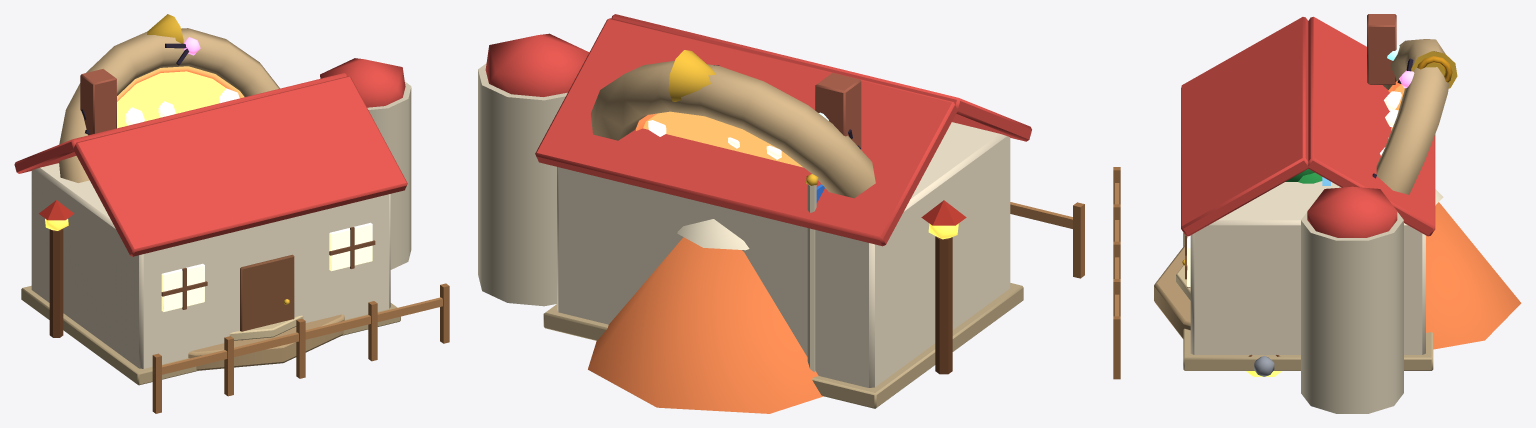
File: rescue.glb
3 views of the same model, side by side, from view 1: azimuth 30°, elevation 25°; view 2: azimuth 150°, elevation 25°; view 3: azimuth 270°, elevation 25° (orthographic). The views are drawn at different scales.
Parts seen in each view (by area): view 1: rs_farmhouse_body, rs_portal_body, rs_portal_swirl_body; view 2: rs_farmhouse_body, rs_camp_body, rs_portal_body, rs_portal_swirl_body; view 3: rs_farmhouse_body, rs_portal_body, rs_camp_body, rs_portal_swirl_body.
Boxes of the visible parts, <box> form: rs_farmhouse_body: <box>14,58,449,413</box>; rs_portal_body: <box>39,14,344,370</box>; rs_portal_swirl_body: <box>117,71,239,128</box>; rs_farmhouse_body: <box>478,14,1084,408</box>; rs_camp_body: <box>588,174,824,413</box>; rs_portal_body: <box>591,50,966,374</box>; rs_portal_swirl_body: <box>643,111,803,167</box>; rs_farmhouse_body: <box>1113,14,1435,413</box>; rs_portal_body: <box>1154,39,1457,338</box>; rs_camp_body: <box>1246,189,1521,376</box>; rs_portal_swirl_body: <box>1380,84,1404,155</box>.
Bounding box in the file's own units: 6.14 × 4.32 × 5.55.
